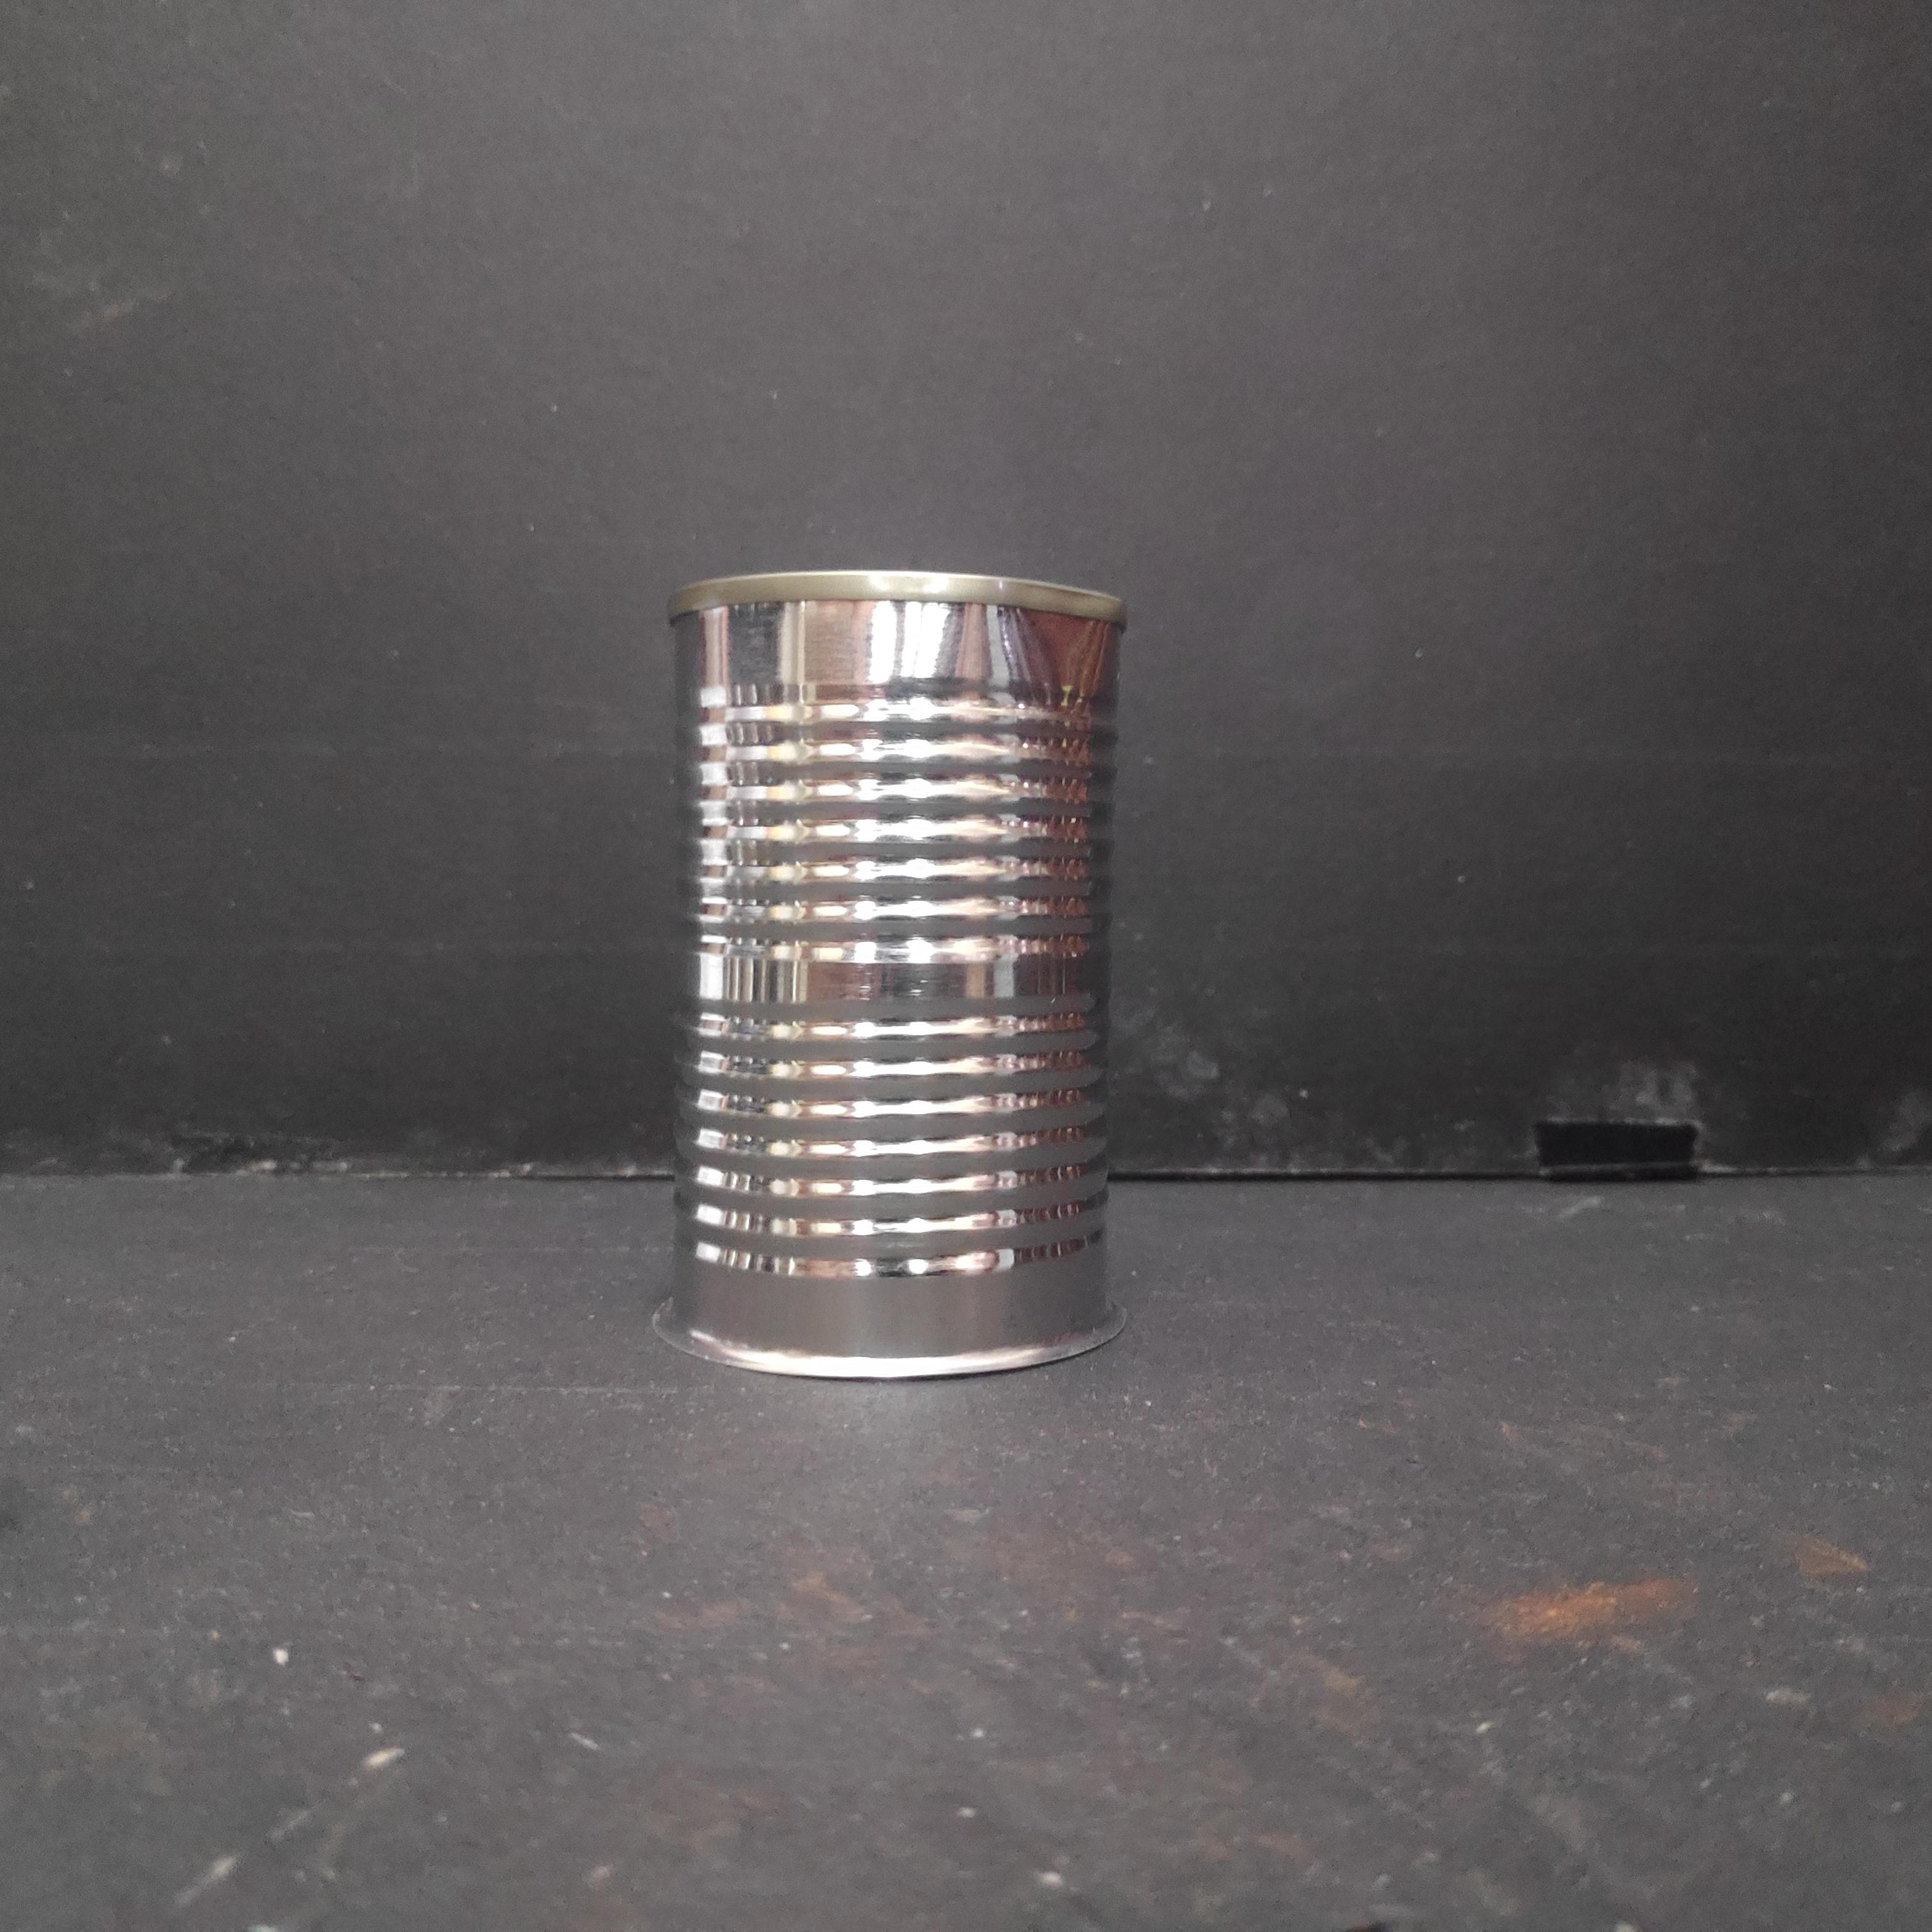Minor Defect: (656, 557, 1141, 1394)
